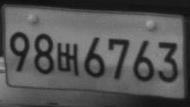3: (158, 41, 178, 82)
6: (132, 40, 155, 82), (83, 36, 105, 78)
7: (107, 37, 130, 79)
8: (33, 32, 54, 74)
9: (8, 30, 30, 73)
버: (56, 42, 80, 76)
